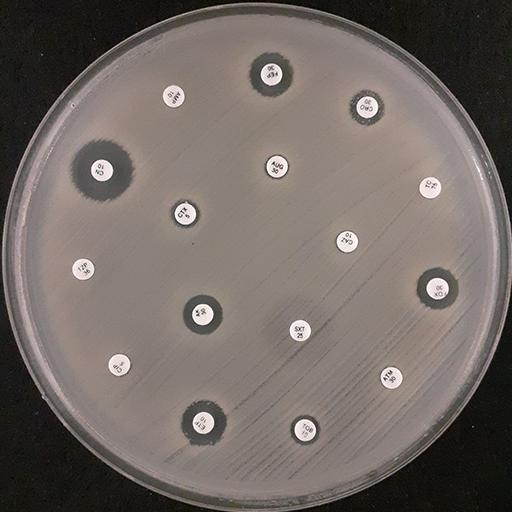disc: (265, 154, 288, 179), (426, 276, 449, 301), (356, 95, 379, 119), (90, 159, 113, 182), (260, 63, 282, 87), (163, 85, 185, 109), (289, 318, 311, 342), (380, 365, 402, 389), (294, 418, 316, 442), (193, 410, 215, 434), (174, 202, 196, 226), (419, 176, 441, 199), (336, 229, 358, 252), (108, 353, 130, 376), (191, 303, 214, 325), (72, 258, 94, 281)
